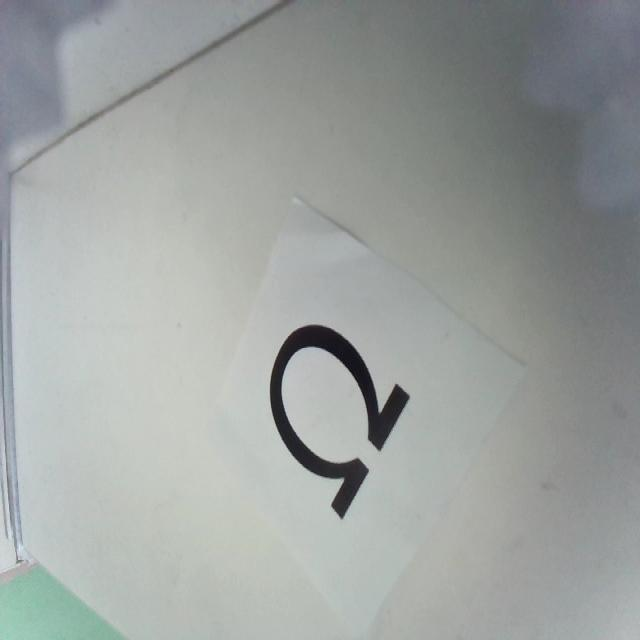OM: (269, 322, 412, 522)
